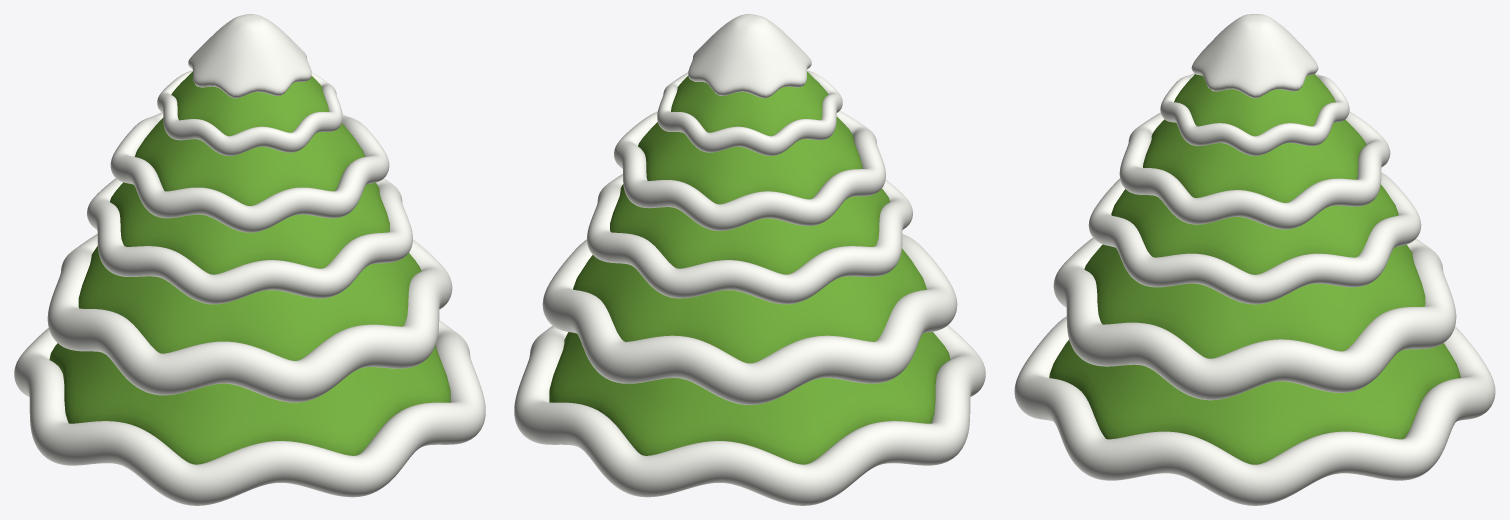
Rendered from Tree6.fbx.
3 renders of one model, left to right at view 1: azimuth 30°, elevation 25°; view 2: azimuth 150°, elevation 25°; view 3: azimuth 270°, elevation 25°, orthographic.
Parts seen in each view (by area): view 1: Cylinder.023, Cylinder.022, Cylinder.025, Cylinder.018, Cylinder.026, Cylinder.019, Cylinder.027, Cylinder.020, Cylinder.028, Cylinder.021, Cylinder.029; view 2: Cylinder.023, Cylinder.022, Cylinder.025, Cylinder.018, Cylinder.026, Cylinder.019, Cylinder.027, Cylinder.020, Cylinder.028, Cylinder.021, Cylinder.029; view 3: Cylinder.023, Cylinder.022, Cylinder.025, Cylinder.018, Cylinder.026, Cylinder.019, Cylinder.020, Cylinder.027, Cylinder.028, Cylinder.021, Cylinder.029.
Boxes of the visible parts, x1,y1,x2,y2 form: Cylinder.023: [14, 320, 485, 505]; Cylinder.022: [49, 343, 450, 464]; Cylinder.025: [47, 234, 452, 402]; Cylinder.018: [78, 246, 421, 360]; Cylinder.026: [87, 178, 412, 304]; Cylinder.019: [110, 182, 389, 274]; Cylinder.027: [110, 112, 389, 232]; Cylinder.020: [134, 117, 365, 205]; Cylinder.028: [188, 14, 311, 98]; Cylinder.021: [171, 71, 328, 136]; Cylinder.029: [157, 70, 342, 155]; Cylinder.023: [514, 325, 985, 505]; Cylinder.022: [549, 332, 950, 464]; Cylinder.025: [542, 234, 957, 405]; Cylinder.018: [573, 248, 926, 363]; Cylinder.026: [587, 174, 912, 304]; Cylinder.019: [610, 184, 889, 274]; Cylinder.027: [614, 111, 885, 230]; Cylinder.020: [638, 116, 862, 204]; Cylinder.028: [688, 14, 811, 98]; Cylinder.021: [671, 71, 828, 136]; Cylinder.029: [657, 70, 842, 155]; Cylinder.023: [1014, 316, 1495, 505]; Cylinder.022: [1049, 339, 1460, 464]; Cylinder.025: [1053, 238, 1456, 400]; Cylinder.018: [1084, 244, 1425, 358]; Cylinder.026: [1088, 172, 1421, 304]; Cylinder.019: [1111, 184, 1398, 274]; Cylinder.020: [1143, 119, 1366, 202]; Cylinder.027: [1119, 111, 1390, 229]; Cylinder.028: [1191, 14, 1318, 98]; Cylinder.021: [1174, 74, 1335, 136]; Cylinder.029: [1160, 73, 1349, 155].
Bounding box in the file's own units: 296 × 290 × 296.
